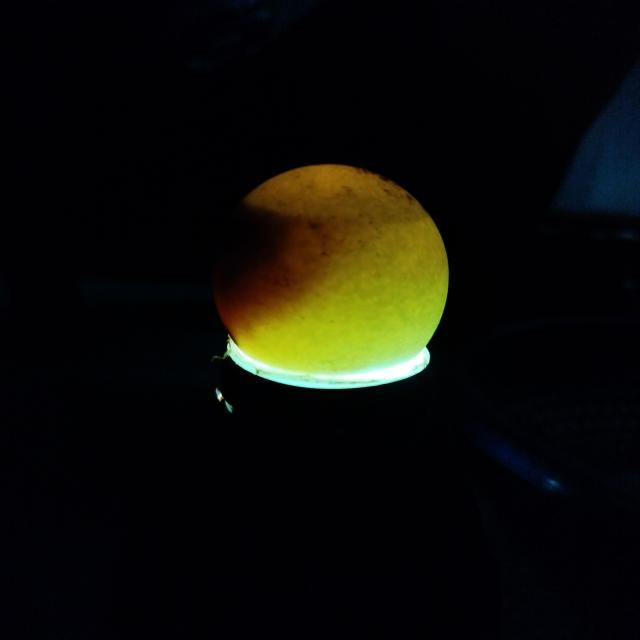Area Infectada: (213, 202, 293, 293)
